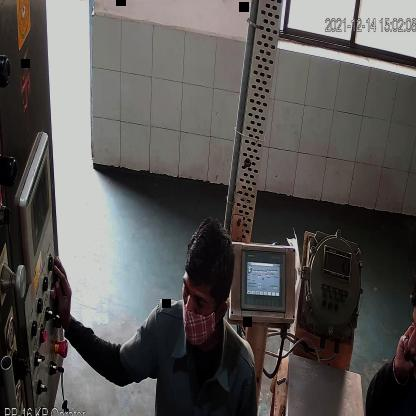no_goggles: (180, 282, 216, 312)
